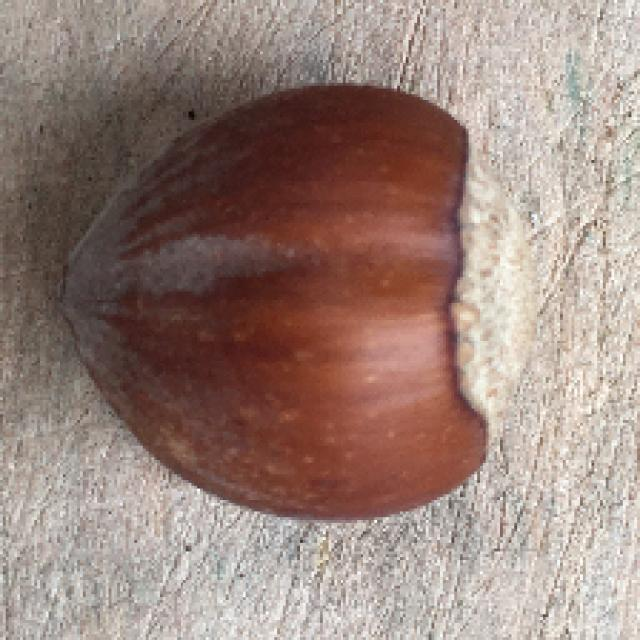QualityHazelnut: (57, 82, 537, 519)
